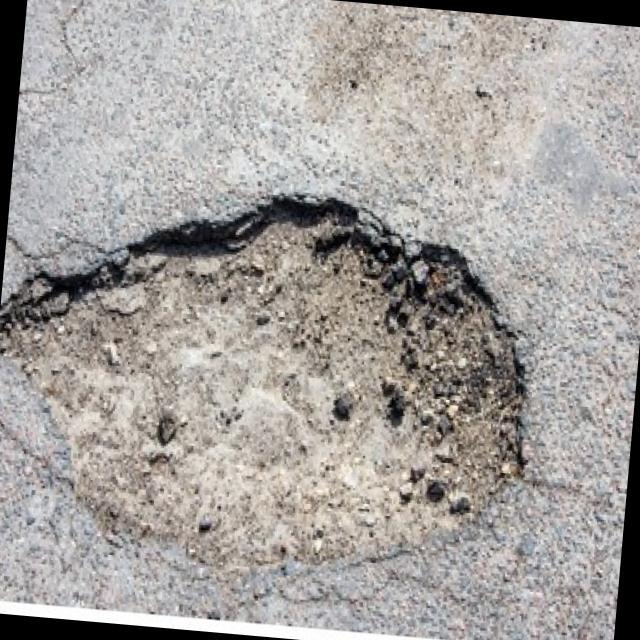Pothole: (0, 164, 547, 592)
